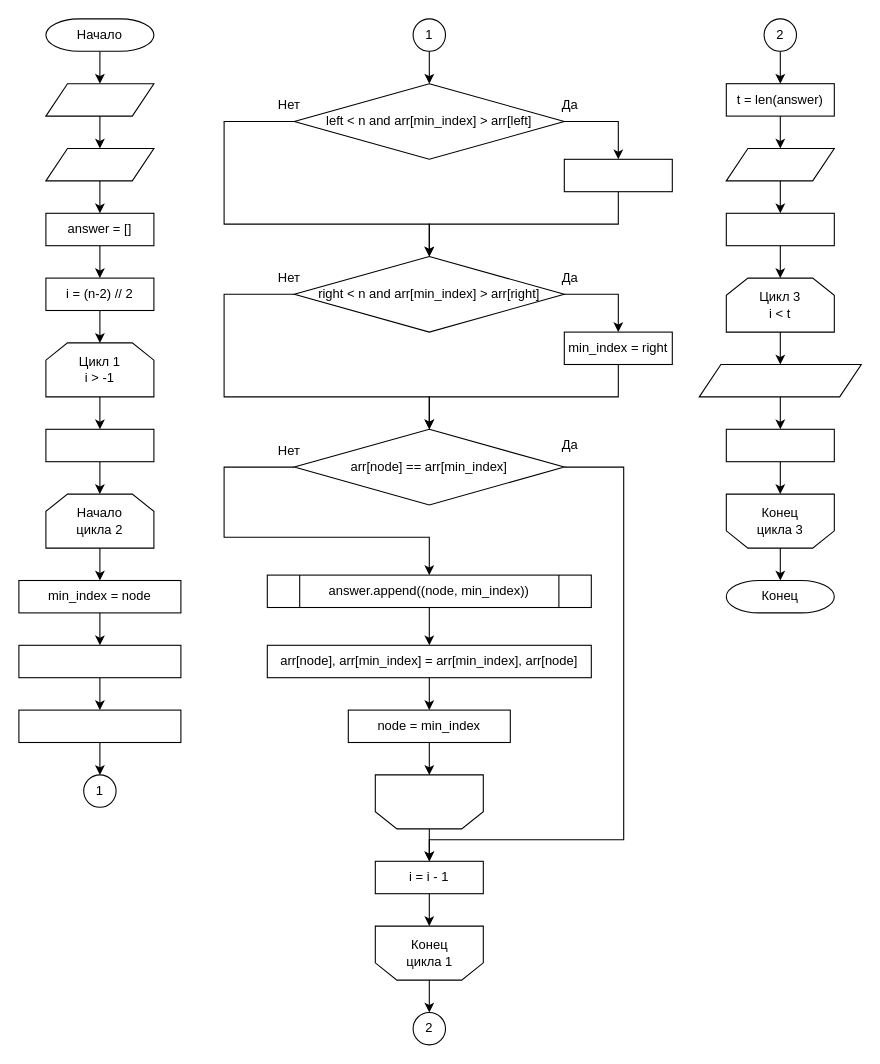
Some shapes in this 880 by 1064 pixel diagram are drawn without their labels. Each missing label, with the centre of its shape:
i = 0: the point at 779,229
i = i + 1: the point at 779,445
left = 2 * node + 1: the point at 99,661
min_index = left: the point at 617,175
node = i: the point at 99,445
right = 2 * node + 1: the point at 99,725
Ввод arr: the point at 99,164
Ввод n: the point at 99,99
Вывод answer[i]: the point at 779,380
Вывод t: the point at 779,164
Конец цикла 2: the point at 428,801
